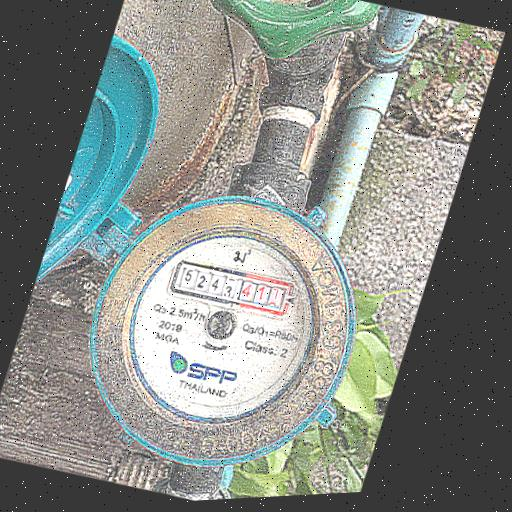1: (252, 283, 270, 306), (266, 287, 284, 309)
2: (193, 271, 210, 292)
3: (220, 277, 238, 299)
4: (238, 280, 256, 303), (208, 273, 226, 295)
5: (178, 268, 197, 290)
border_water_meter_number: (166, 251, 298, 323)
